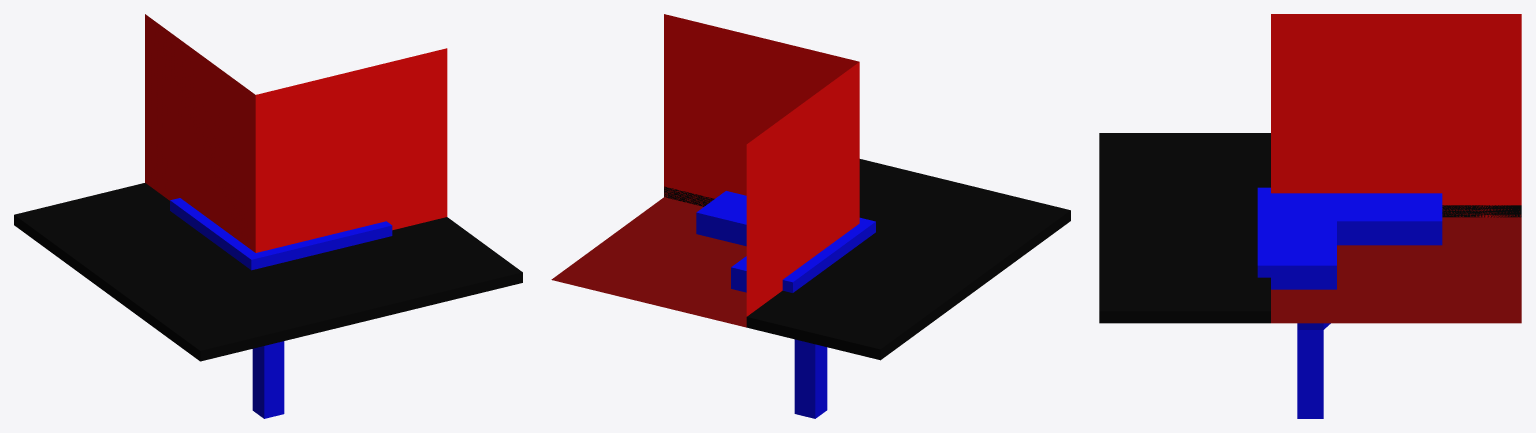
The model's file is BigStrut_E_P_A_E_P_P_E_E_None.fbx.
3 renders of one model, left to right at view 1: azimuth 30°, elevation 25°; view 2: azimuth 150°, elevation 25°; view 3: azimuth 270°, elevation 25°, orthographic. The views are drawn at different scales.
Visible parts, largest first — view 1: BigStrut_E_P_A_E_P_P_E_E_None; view 2: BigStrut_E_P_A_E_P_P_E_E_None; view 3: BigStrut_E_P_A_E_P_P_E_E_None.
Part boxes in pixels (left/top/right/bottom): BigStrut_E_P_A_E_P_P_E_E_None: left=14, top=14, right=522, bottom=418; BigStrut_E_P_A_E_P_P_E_E_None: left=551, top=14, right=1070, bottom=418; BigStrut_E_P_A_E_P_P_E_E_None: left=1099, top=14, right=1521, bottom=418.
Size of the model in its own units: 100 by 100 by 100.
